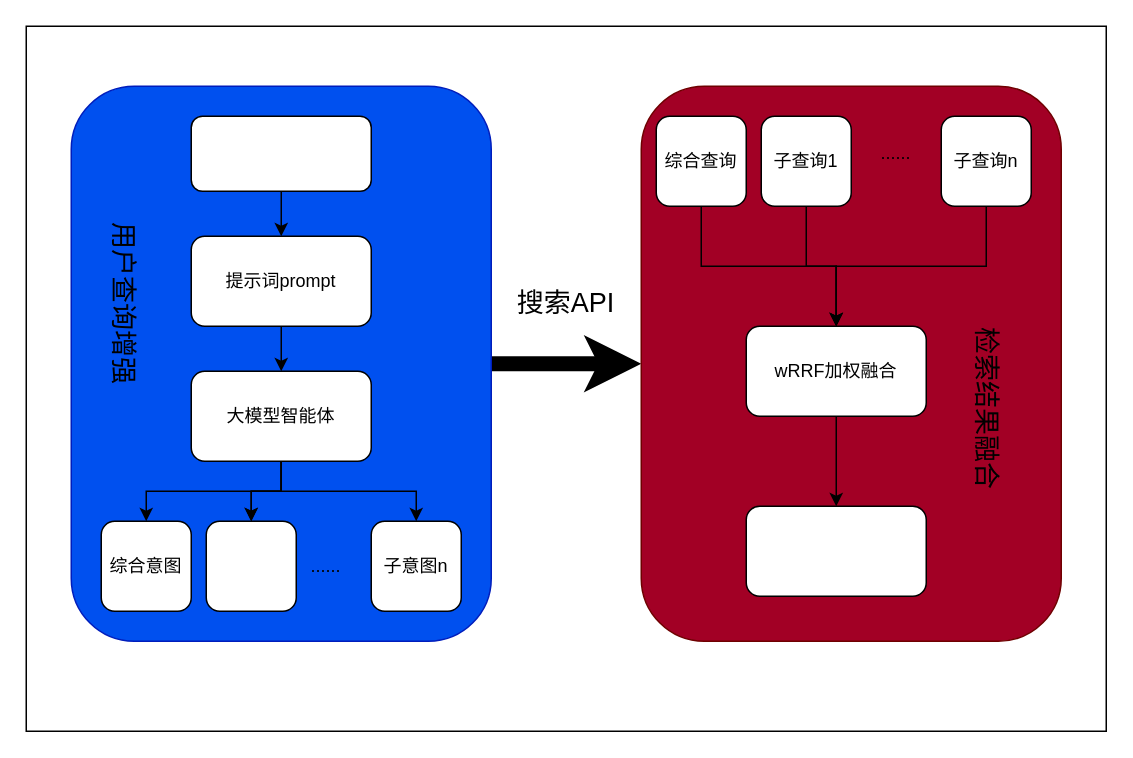
Some shapes in this 1133 by 758 pixel diagram are drawn without their labels. Here are the shapes that lost their labels. From the top down, the centre of each, then its label:
At (x=280, y=153): "用户原始查询".
At (x=250, y=565): "子意图1".
At (x=835, y=550): "输出融合检索结果".
